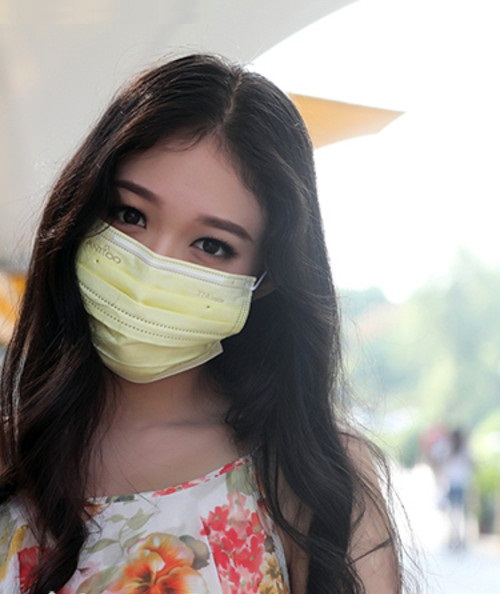face_mask: (87, 129, 261, 376)
